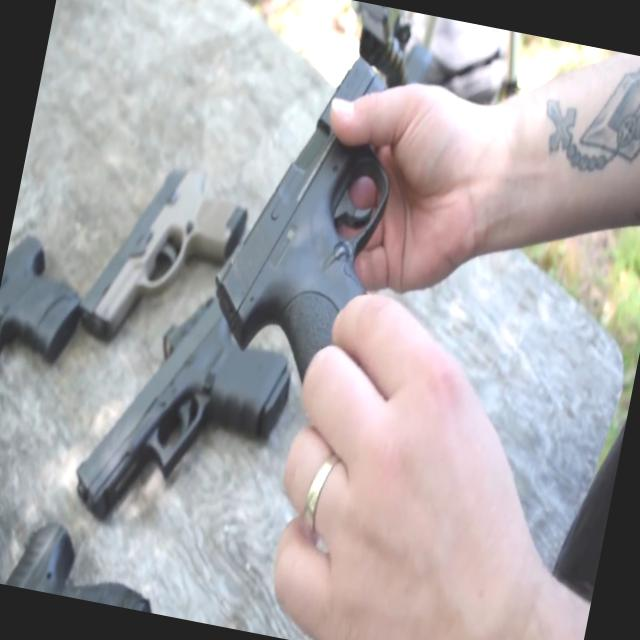handgun: (205, 38, 444, 416), (58, 276, 320, 558), (73, 135, 263, 382), (0, 213, 109, 408)
